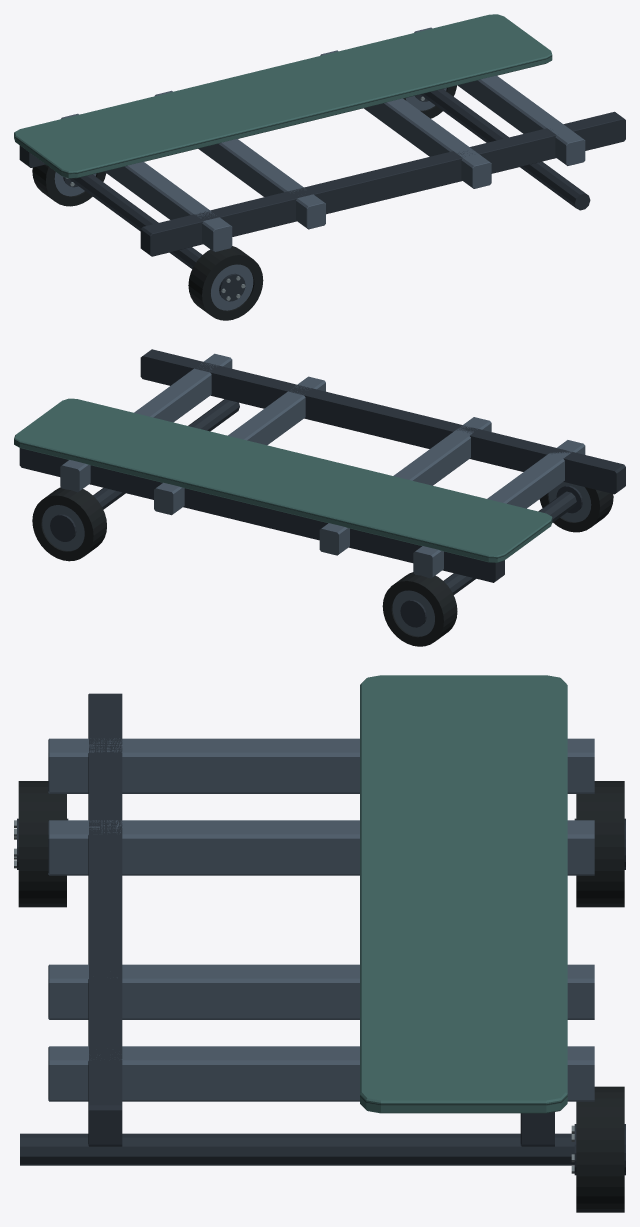
Rendered from R-04_service_chassis.glb.
The picture shows the model from 3 angles, top to bottom: view 1: azimuth 30°, elevation 25°; view 2: azimuth 150°, elevation 25°; view 3: azimuth 270°, elevation 25°; orthographic projection. The views are drawn at different scales.
Parts seen in each view (by area): view 1: R-04_service_chassis; view 2: R-04_service_chassis; view 3: R-04_service_chassis.
Part boxes in pixels (x1=…): R-04_service_chassis: x1=14, y1=14, x2=625, y2=320; R-04_service_chassis: x1=14, y1=349, x2=625, y2=646; R-04_service_chassis: x1=14, y1=675, x2=625, y2=1212.
Size of the model in its own units: 3.55 by 0.645 by 2.15.
